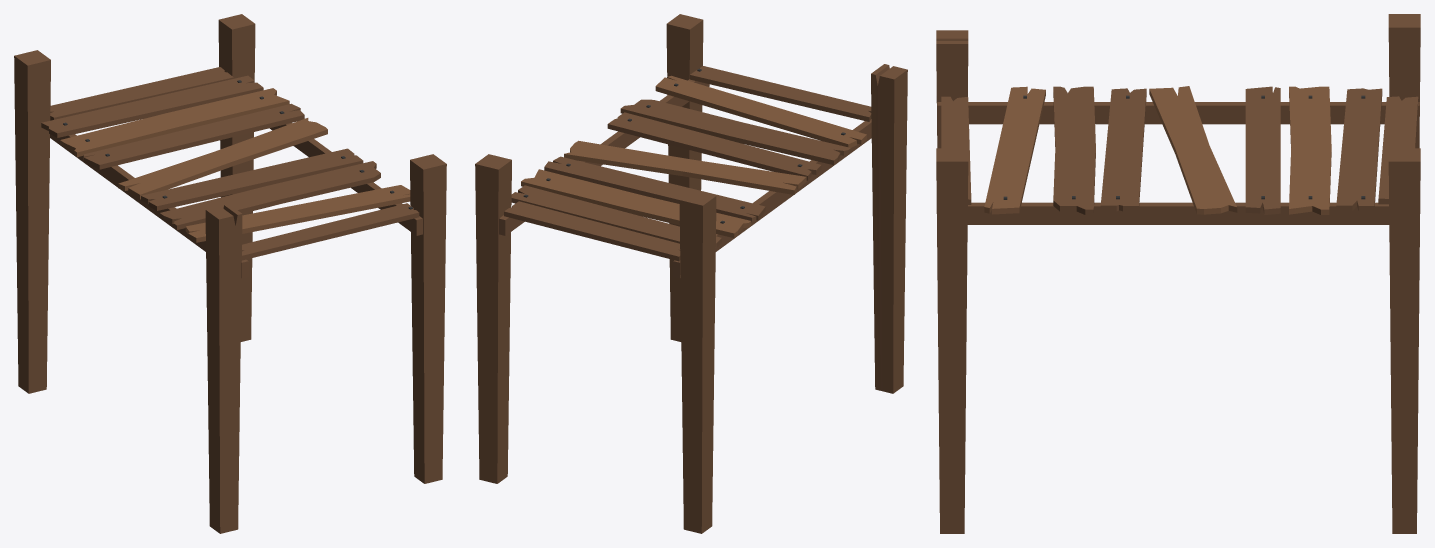
The model's file is Pier_01.fbx.
3 renders of one model, left to right at view 1: azimuth 30°, elevation 25°; view 2: azimuth 150°, elevation 25°; view 3: azimuth 270°, elevation 25°, orthographic. The views are drawn at different scales.
Visible parts, largest first — view 1: Pier_01_LOD0; view 2: Pier_01_LOD0; view 3: Pier_01_LOD0.
Boxes of the visible parts, box(x1,y1,x2,y2) form: Pier_01_LOD0: box(14, 14, 446, 533); Pier_01_LOD0: box(475, 14, 907, 533); Pier_01_LOD0: box(936, 14, 1420, 533).
Size of what is drawn, in the model's own units: 1.89 by 2.62 by 2.95.
